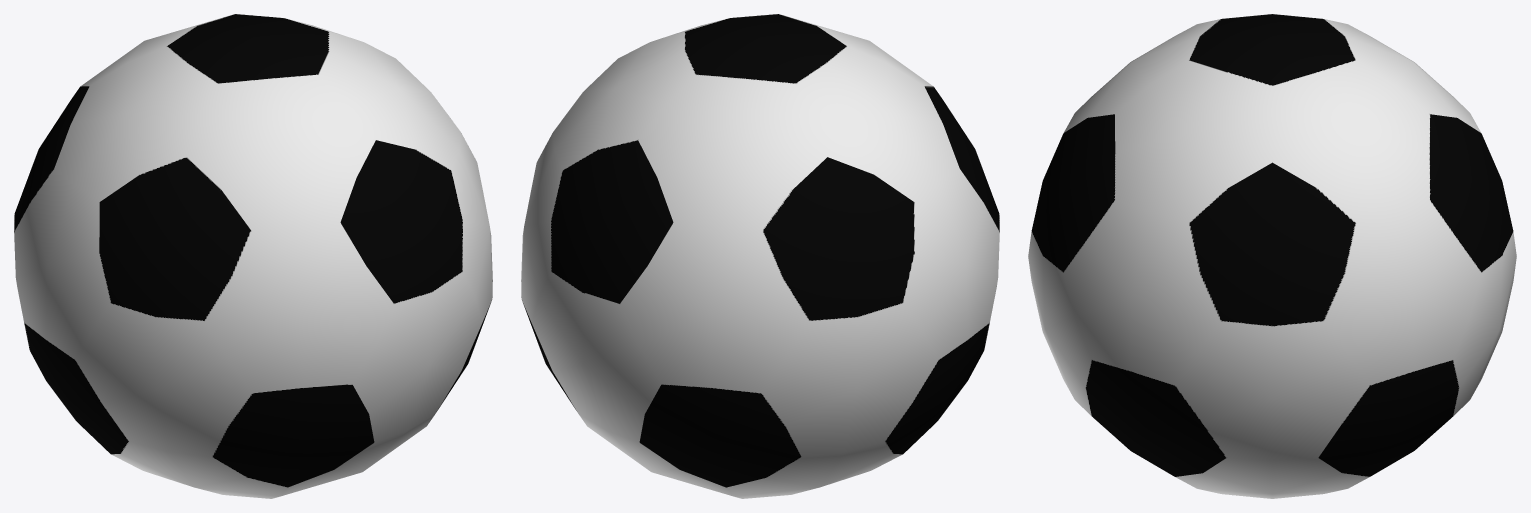
Rendered from Ball_Upd 1.fbx.
3 views of the same model, side by side, from view 1: azimuth 30°, elevation 25°; view 2: azimuth 150°, elevation 25°; view 3: azimuth 270°, elevation 25° (orthographic).
Parts seen in each view (by area): view 1: Ball; view 2: Ball; view 3: Ball.
Boxes of the visible parts, x1=… form: Ball: x1=14, y1=14, x2=492, y2=498; Ball: x1=521, y1=14, x2=999, y2=498; Ball: x1=1028, y1=14, x2=1516, y2=498.
Size of the model in its own units: 153 by 154 by 155.
1 material, 1 textured.
